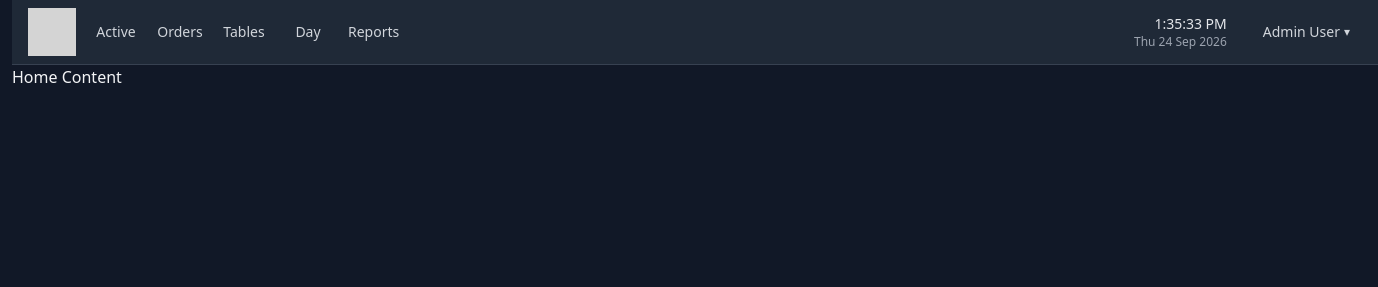
Test: Layout TopBar › shows Admin in the user menu when manageMenu is true
The image size is (1378, 287).
Click the button "Admin User ▾": (1306,32) [1251, 8, 1362, 56]
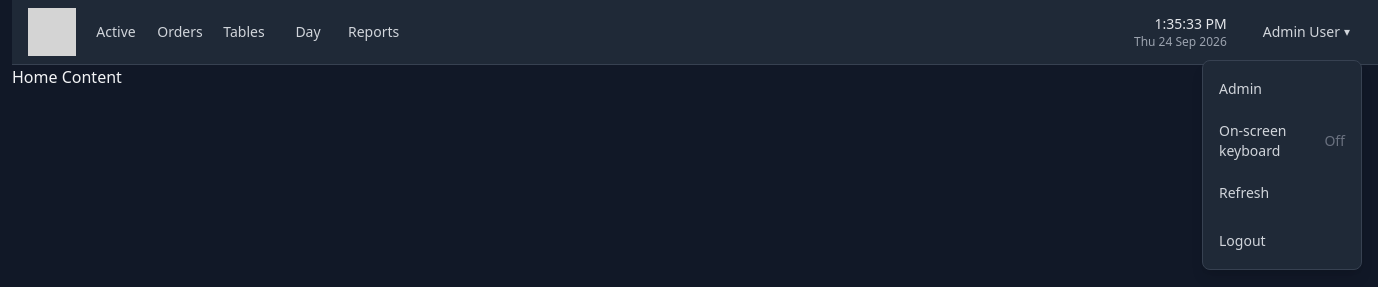
Result: the menu item "Admin" is shown at [1219, 79, 1262, 98]
